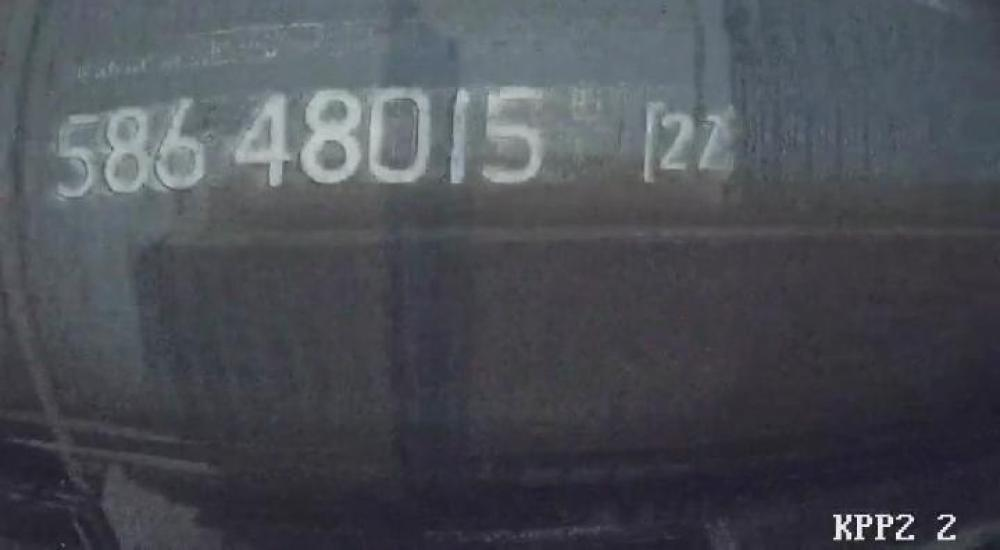Wagon-number: (50, 79, 551, 207)
